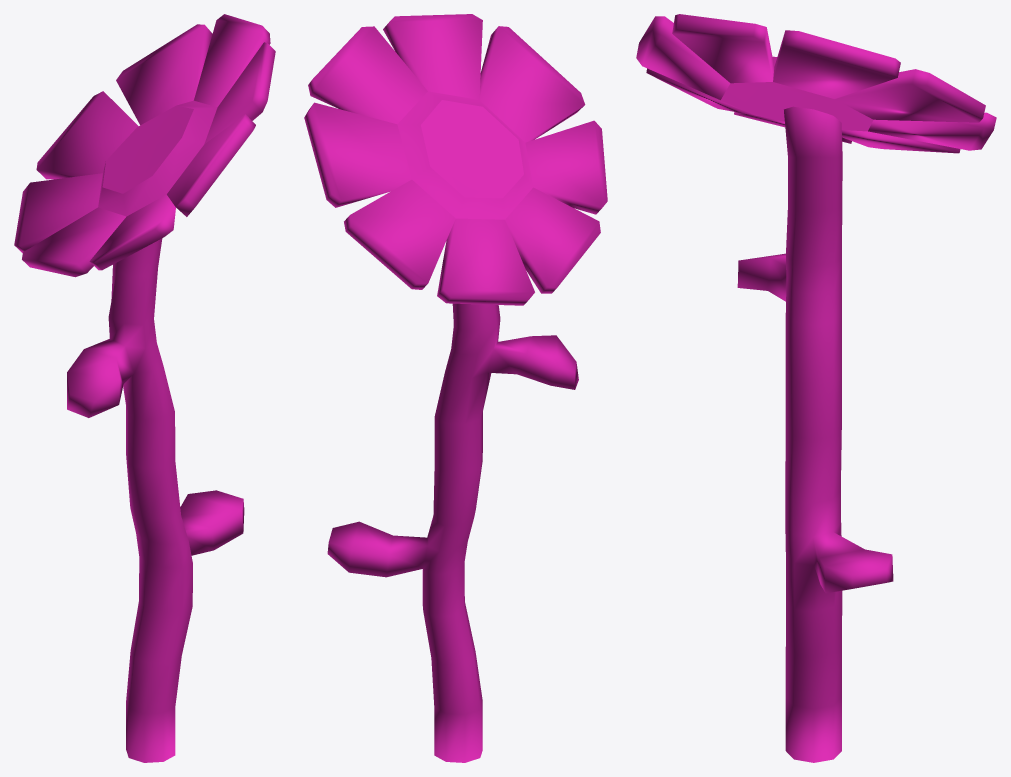
Rendered from flower.glb.
3 views of the same model, side by side, from view 1: azimuth 30°, elevation 25°; view 2: azimuth 150°, elevation 25°; view 3: azimuth 270°, elevation 25° (orthographic). The views are drawn at different scales.
Visible parts, largest first — view 1: FLOR; view 2: FLOR; view 3: FLOR.
Part boxes in pixels (box(x1,y1,x2,y2)): FLOR: box(14, 14, 275, 762); FLOR: box(304, 14, 607, 762); FLOR: box(636, 14, 996, 762).
Size of the model in its own units: 10.47 by 30.55 by 12.86.
